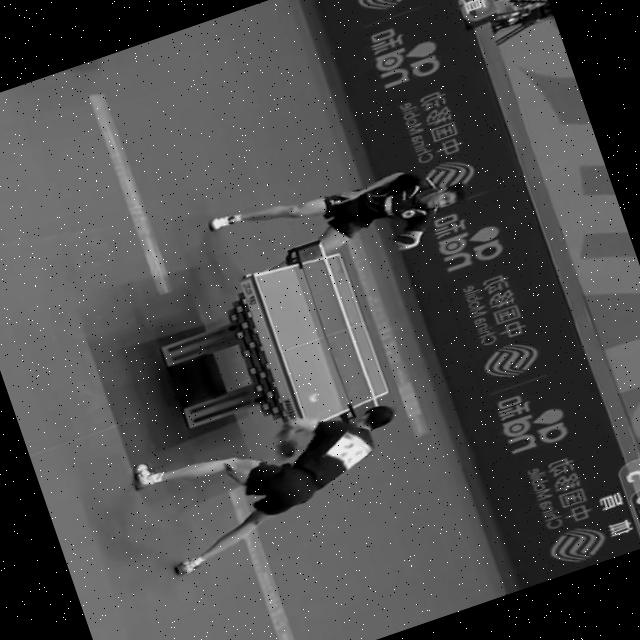ping-pong-ball: (305, 388, 326, 406)
